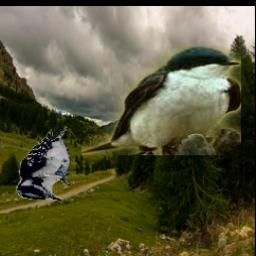Swallow: (83, 46, 242, 155)
Woodpecker: (16, 126, 73, 202)
